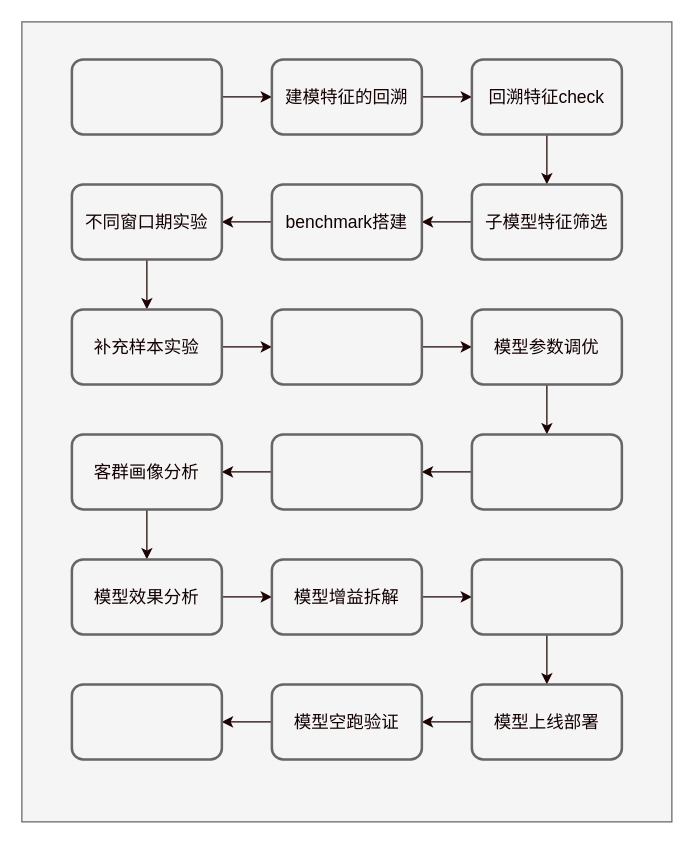
Some shapes in this 694 by 844 pixel diagram are drawn without their labels. The centre of each missing label's shape, as x and y in pixels:
入模变量check: (x=546, y=471)
建模样本的准备: (x=146, y=96)
模型复盘总结: (x=146, y=721)
模型报告整理: (x=546, y=596)
模型稳定性检验: (x=346, y=471)
算法创新实验: (x=346, y=346)
